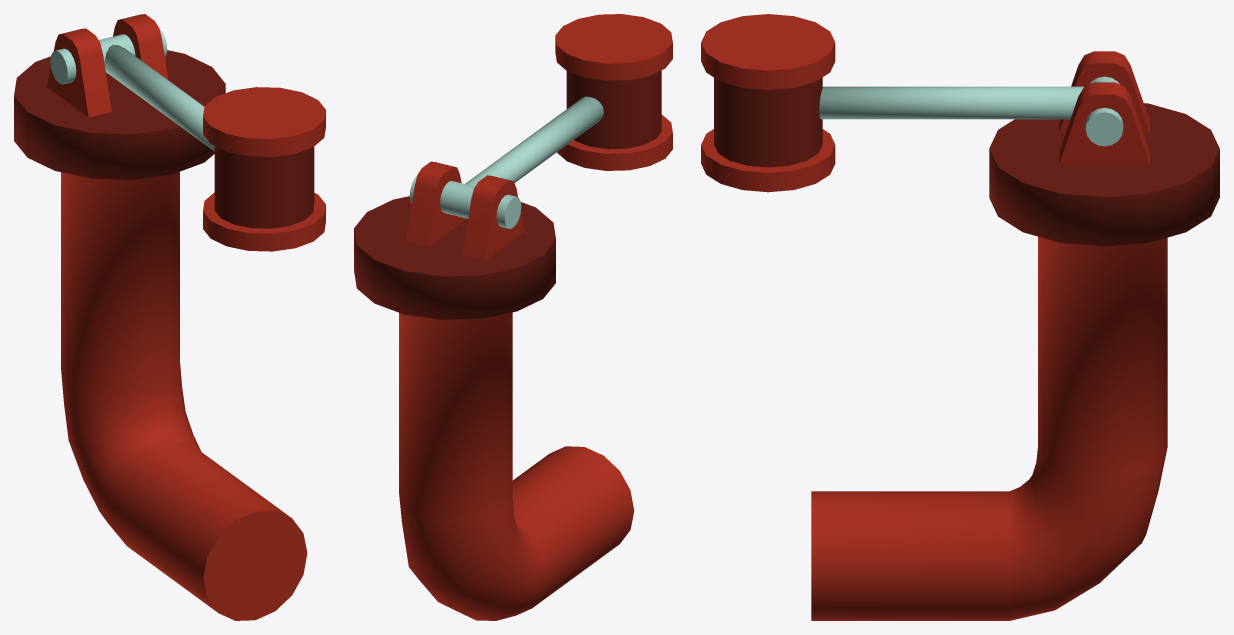
The model's file is Hammer_V2_00.fbx.
The picture shows the model from 3 angles, left to right: view 1: azimuth 30°, elevation 25°; view 2: azimuth 150°, elevation 25°; view 3: azimuth 270°, elevation 25°; orthographic projection. The views are drawn at different scales.
Parts seen in each view (by area): view 1: Hammer_V2_01, Hammer_V2_00; view 2: Hammer_V2_01, Hammer_V2_00; view 3: Hammer_V2_01, Hammer_V2_00.
Boxes of the visible parts, bbox=[...] form: Hammer_V2_01: bbox=[14, 14, 307, 620]; Hammer_V2_00: bbox=[104, 44, 325, 251]; Hammer_V2_01: bbox=[354, 161, 634, 620]; Hammer_V2_00: bbox=[465, 14, 672, 186]; Hammer_V2_01: bbox=[811, 51, 1219, 620]; Hammer_V2_00: bbox=[701, 14, 1083, 192].
Size of the model in its own units: 3.44 by 9.33 by 7.73.
